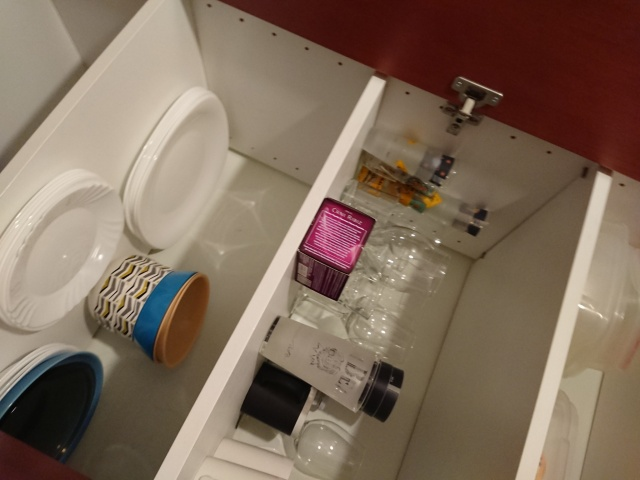Franck Black Currant Tea 60g: (292, 195, 379, 302)
